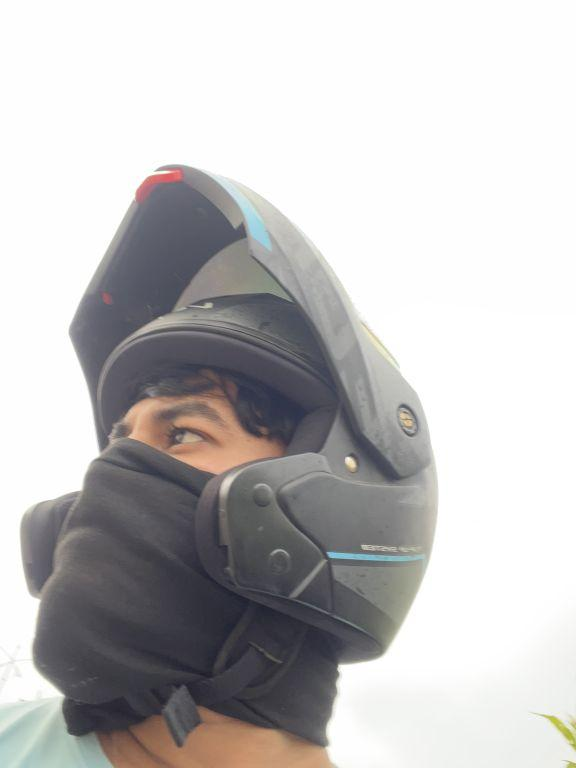helmet: (9, 149, 454, 715)
